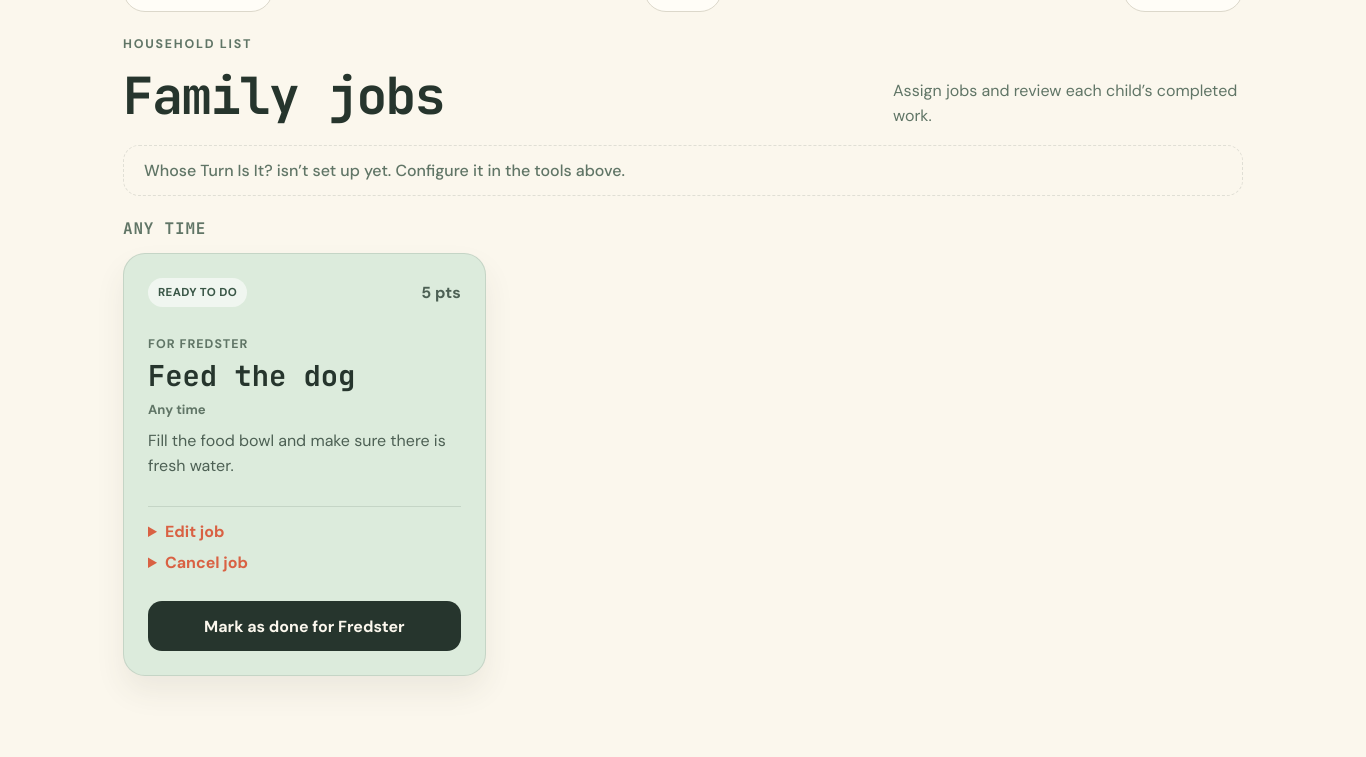
Test case: Today page › reports a completion the server refuses after the undo time and shows the server's state
The width and height of the screenshot is (1366, 757).
(page scrolled)
Click the button "Mark as done for Fredster". click: (304, 626)
box: [148,601,461,651]
(page scrolled)
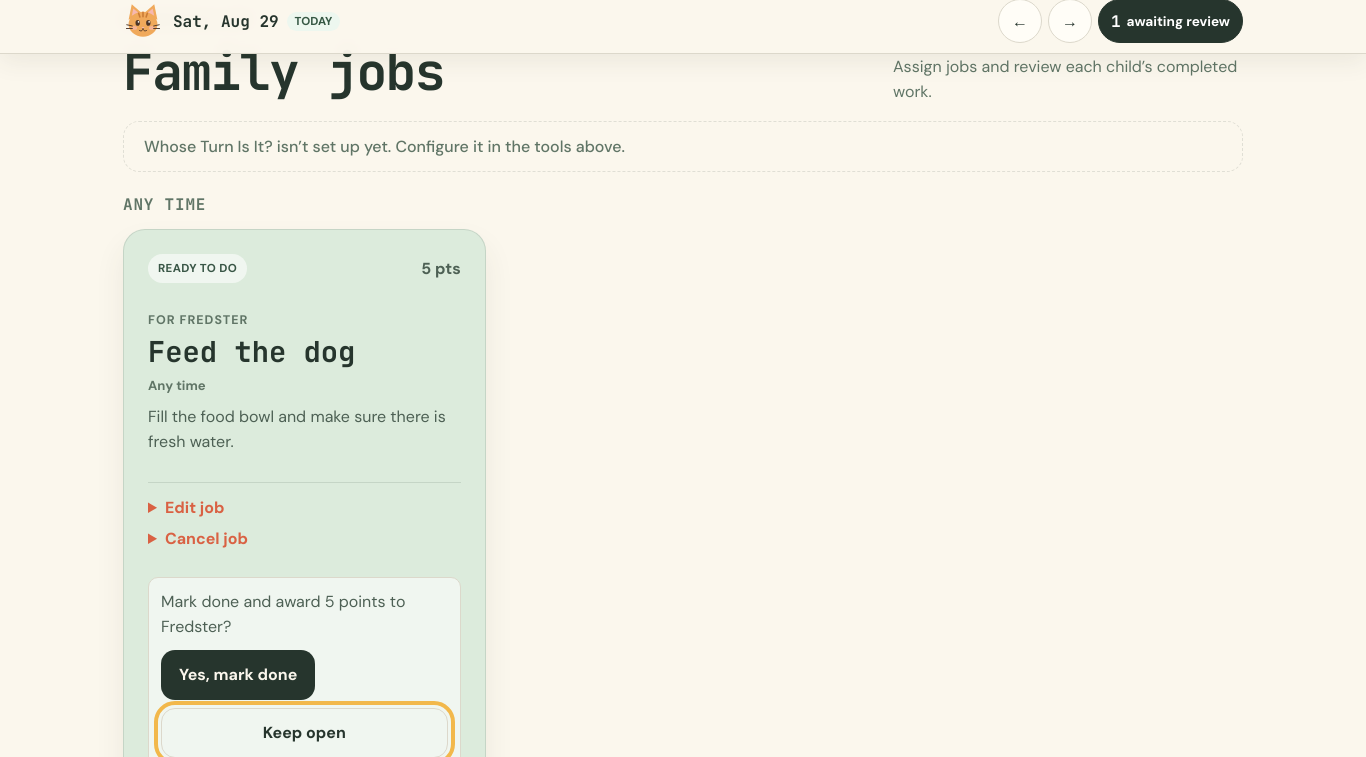
Click the button "Yes, mark done". click: (238, 675)
box: [161,650,315,700]
(page scrolled)
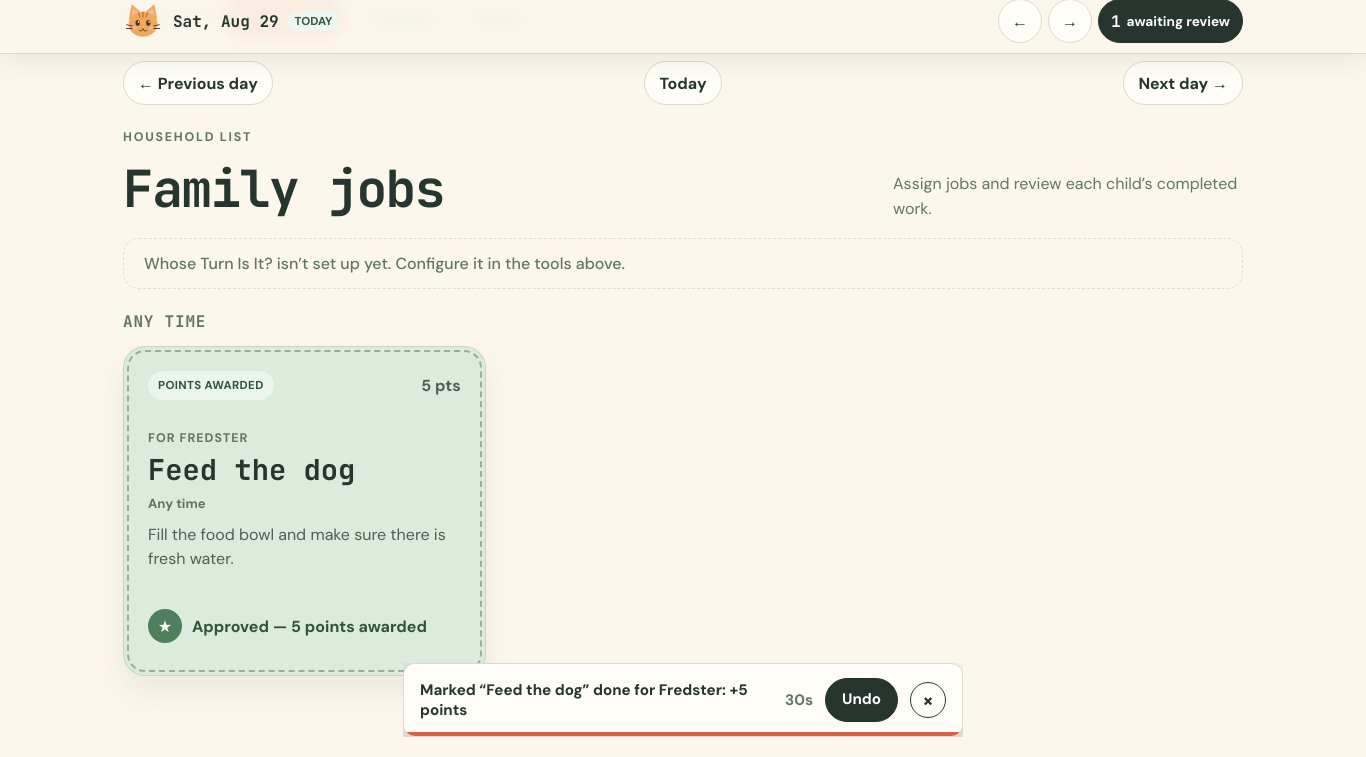
Expected: the text "Approved — 5 points awarded" is shown, [148,601,461,651]
Click the button named "Dismiss and save now". click: (928, 700)
box: [910,682,946,718]
(page scrolled)
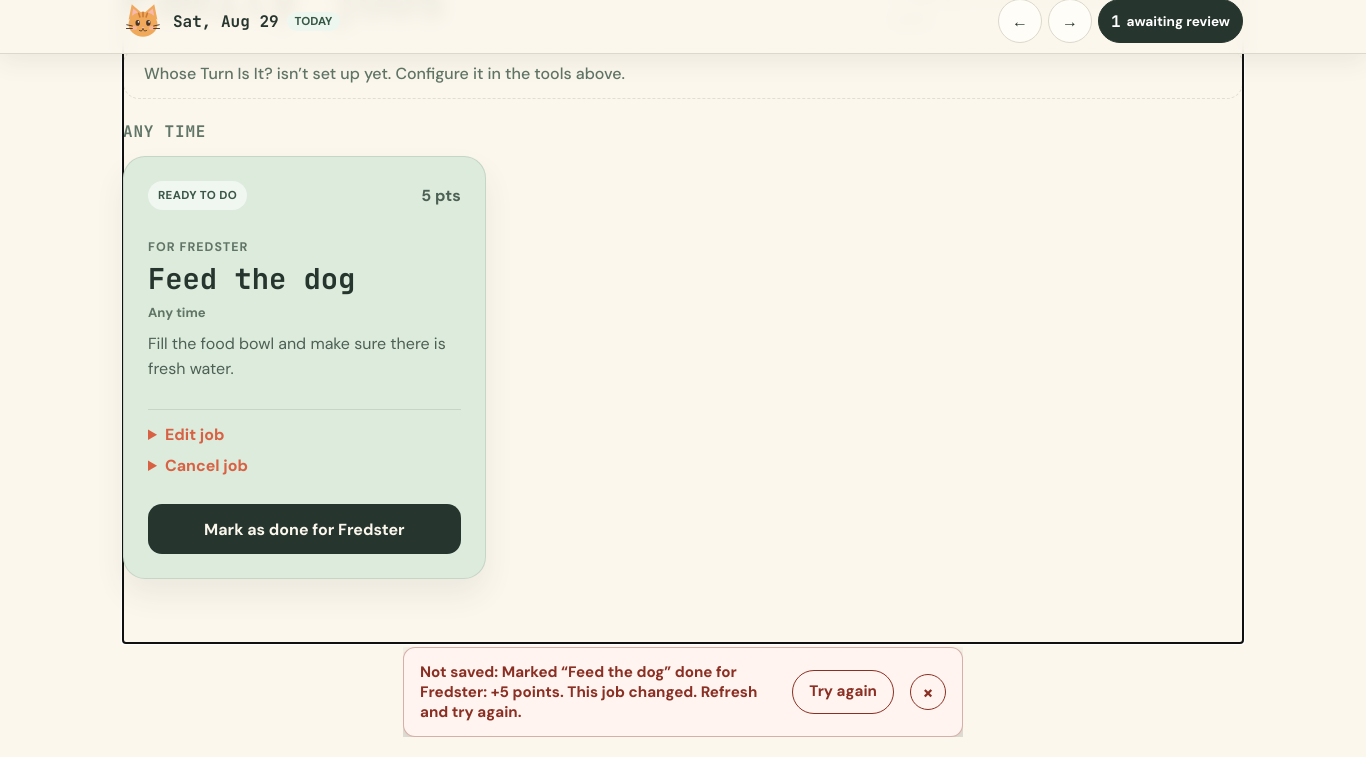
Expected: the button "Mark as done for Fredster" is enabled, [148,504,461,554]
Expected: the text "Approved — 5 points awarded" is gone
